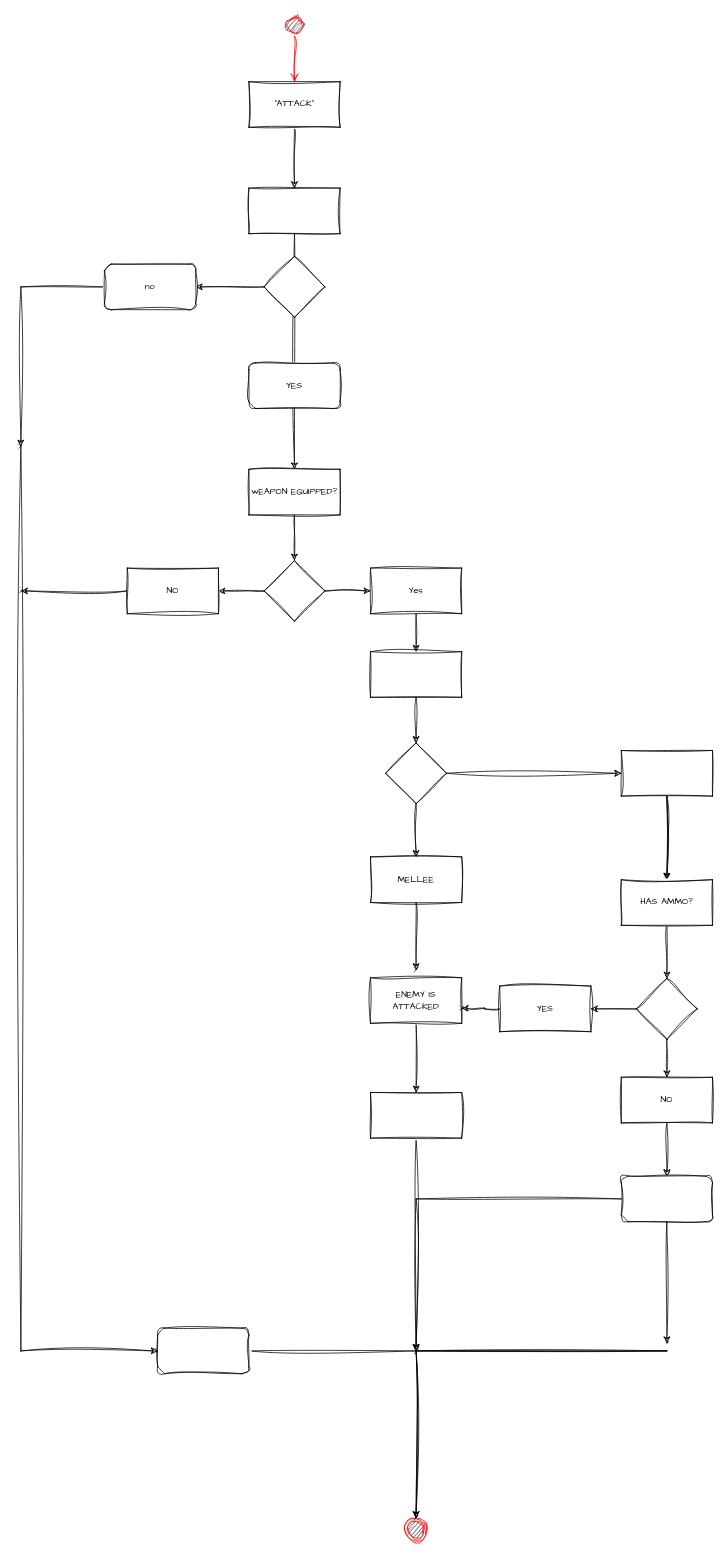
Some shapes in this 726 by 1554 pixel diagram are drawn without their labels. The shapes that lost their labels are listed below. From the top down, each one's centre as x and y in pixels, then its label:
(294,210): ENEMY TO ATTACK?
(416,674): MEELEE/RANGED?
(666,773): RANGED
(416,1115): HEALTH CALCULATED
(666,1198): PRINT "OUT OF AMMO#
(203,1350): PRINT "YOU CAN'T ATTACK"
